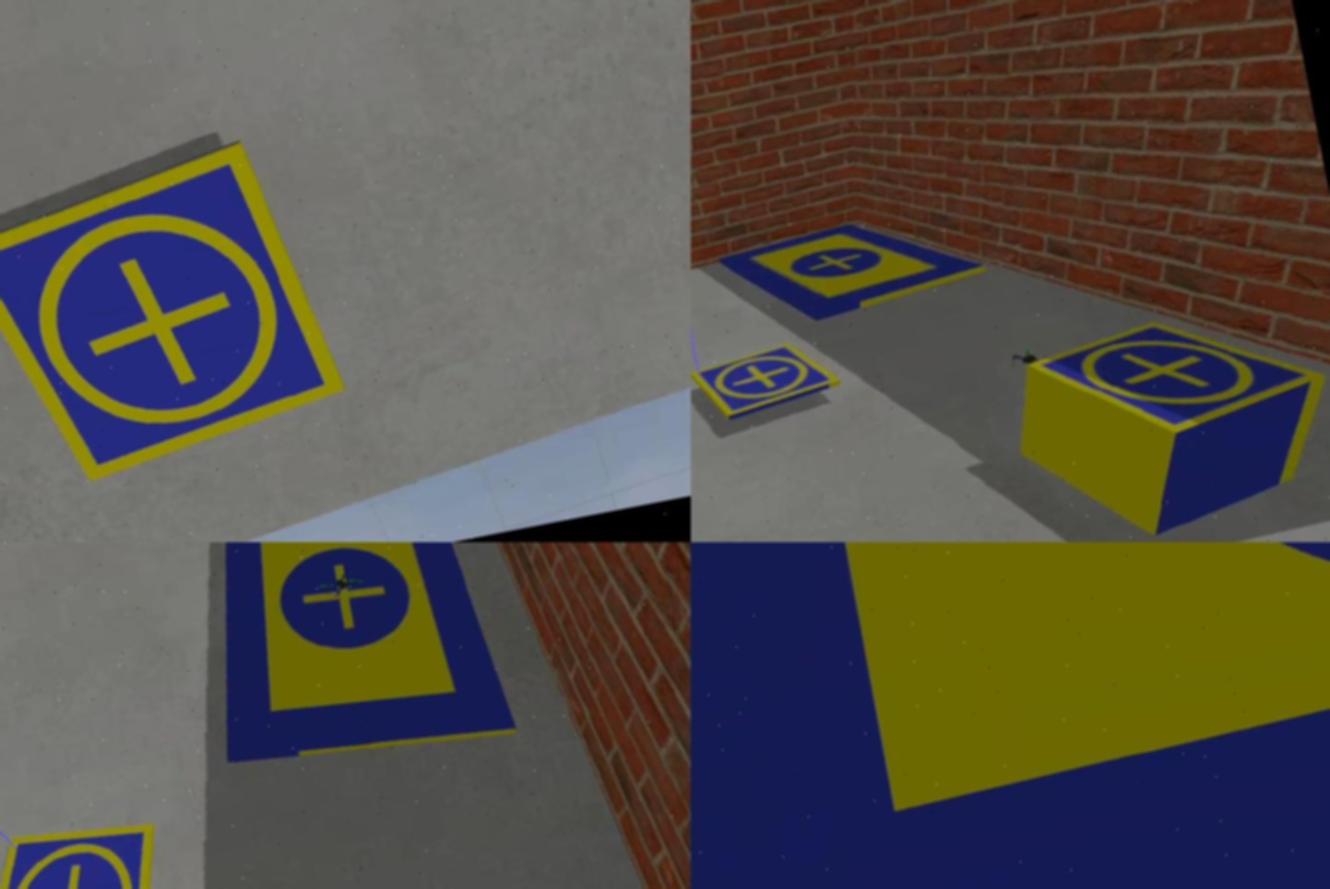large_base: (692, 542, 1330, 889), (179, 542, 523, 790), (710, 198, 992, 336)
small_base: (1, 130, 353, 499), (1018, 290, 1330, 457), (692, 338, 850, 430), (1, 812, 184, 889)
